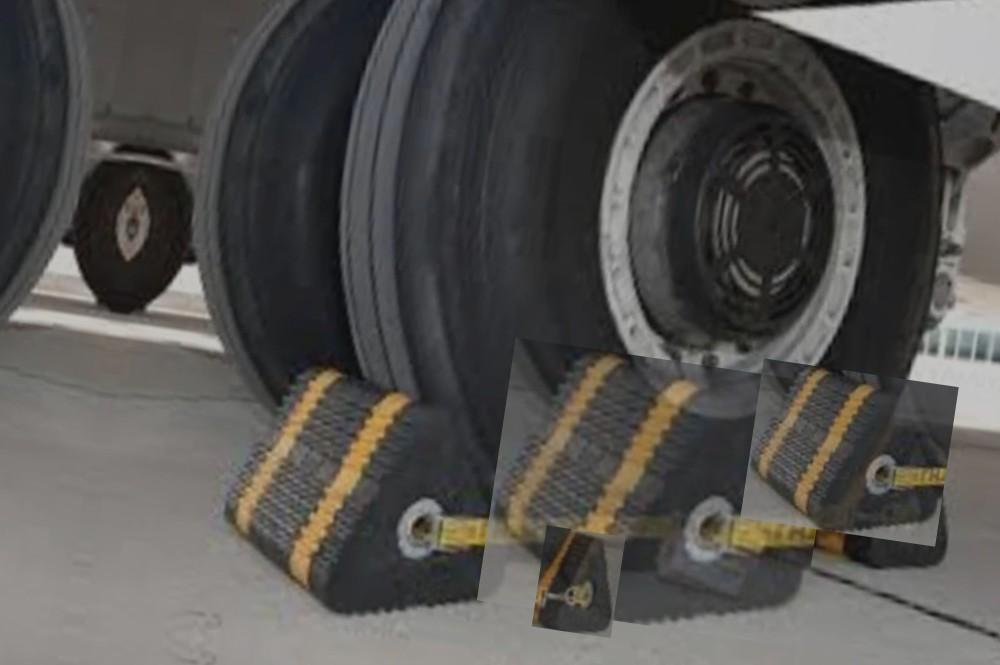chock: (477, 338, 838, 648), (208, 354, 537, 638), (740, 358, 959, 547), (834, 416, 967, 576), (532, 525, 626, 638)
wheel: (275, 0, 994, 585), (169, 0, 441, 425), (0, 0, 116, 377), (60, 154, 142, 310), (120, 163, 201, 318)
